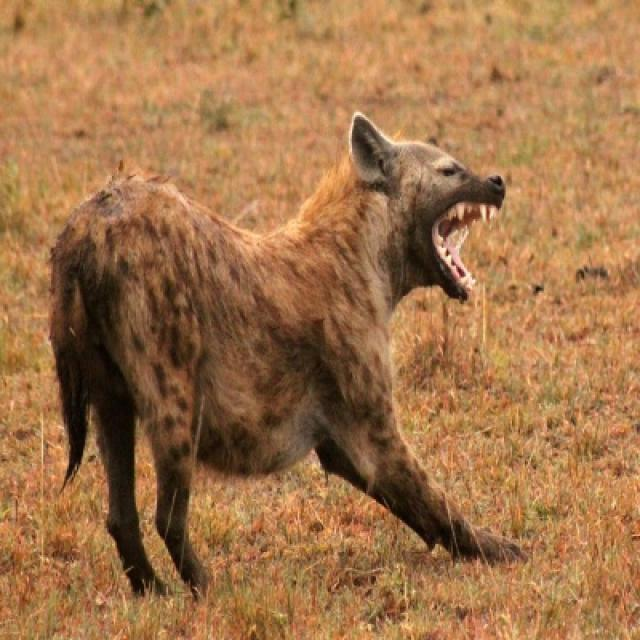hyena: (46, 114, 517, 598)
